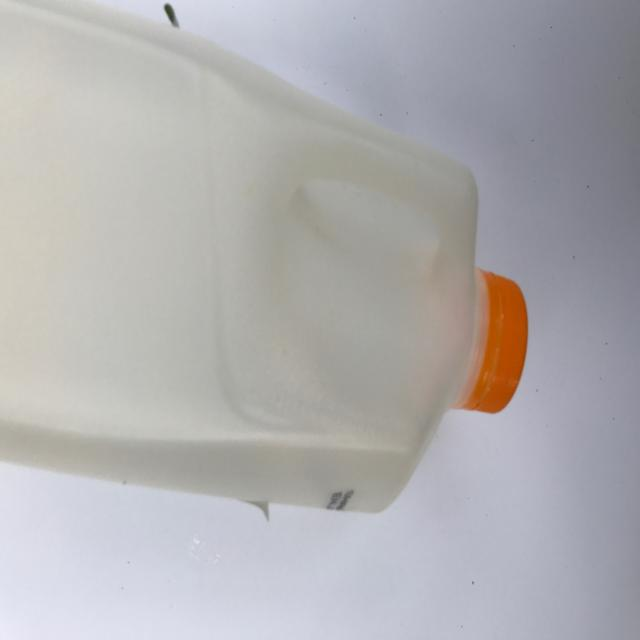plastic: (0, 0, 528, 518)
